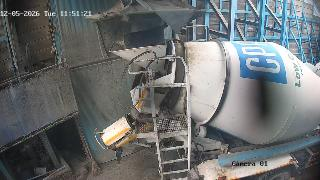cement_mixer_truck: (110, 39, 320, 180)
